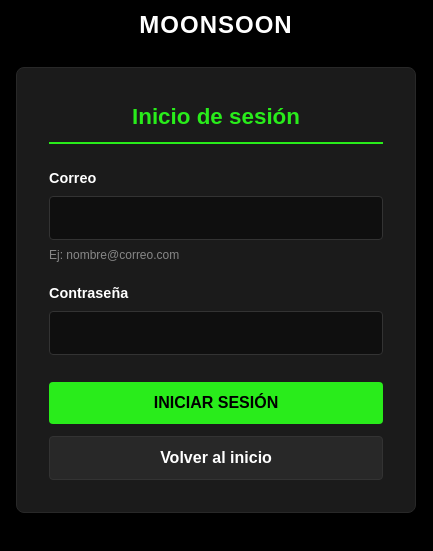
it: Login › muestra el error que devuelve la API si las credenciales son incorrectas
Type "nadie@gmail.com" into the field labelled "Correo" at (216,218), box [49, 196, 383, 240]
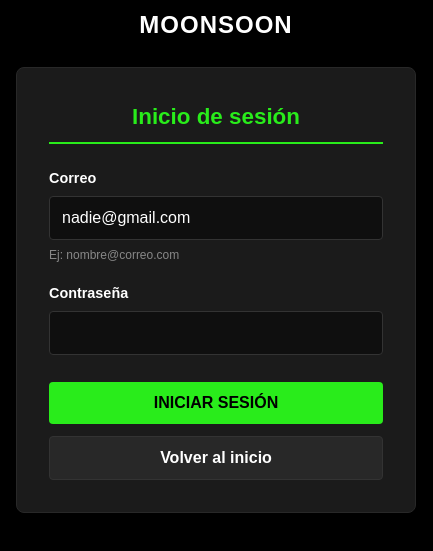
Type "Clave123!" into the password field labelled "Contraseña" at (216,333), box [49, 311, 383, 355]
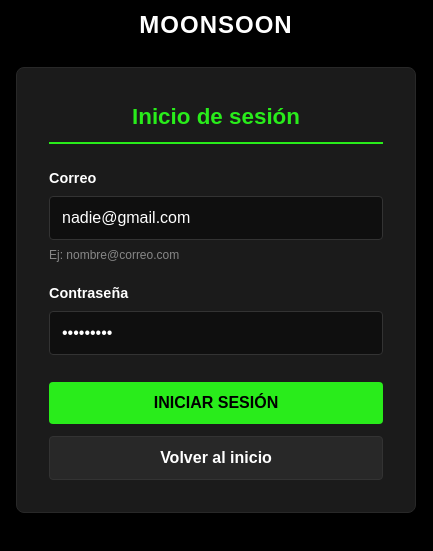
Click the button "Iniciar sesión" at (216,403), box [49, 382, 383, 424]
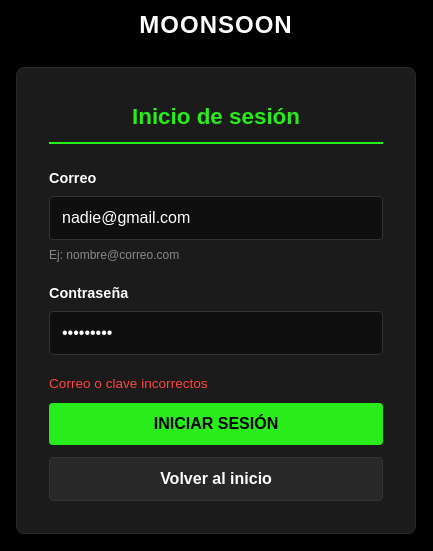
Now the text "Correo o clave incorrectos" is shown, box [49, 376, 208, 391]
